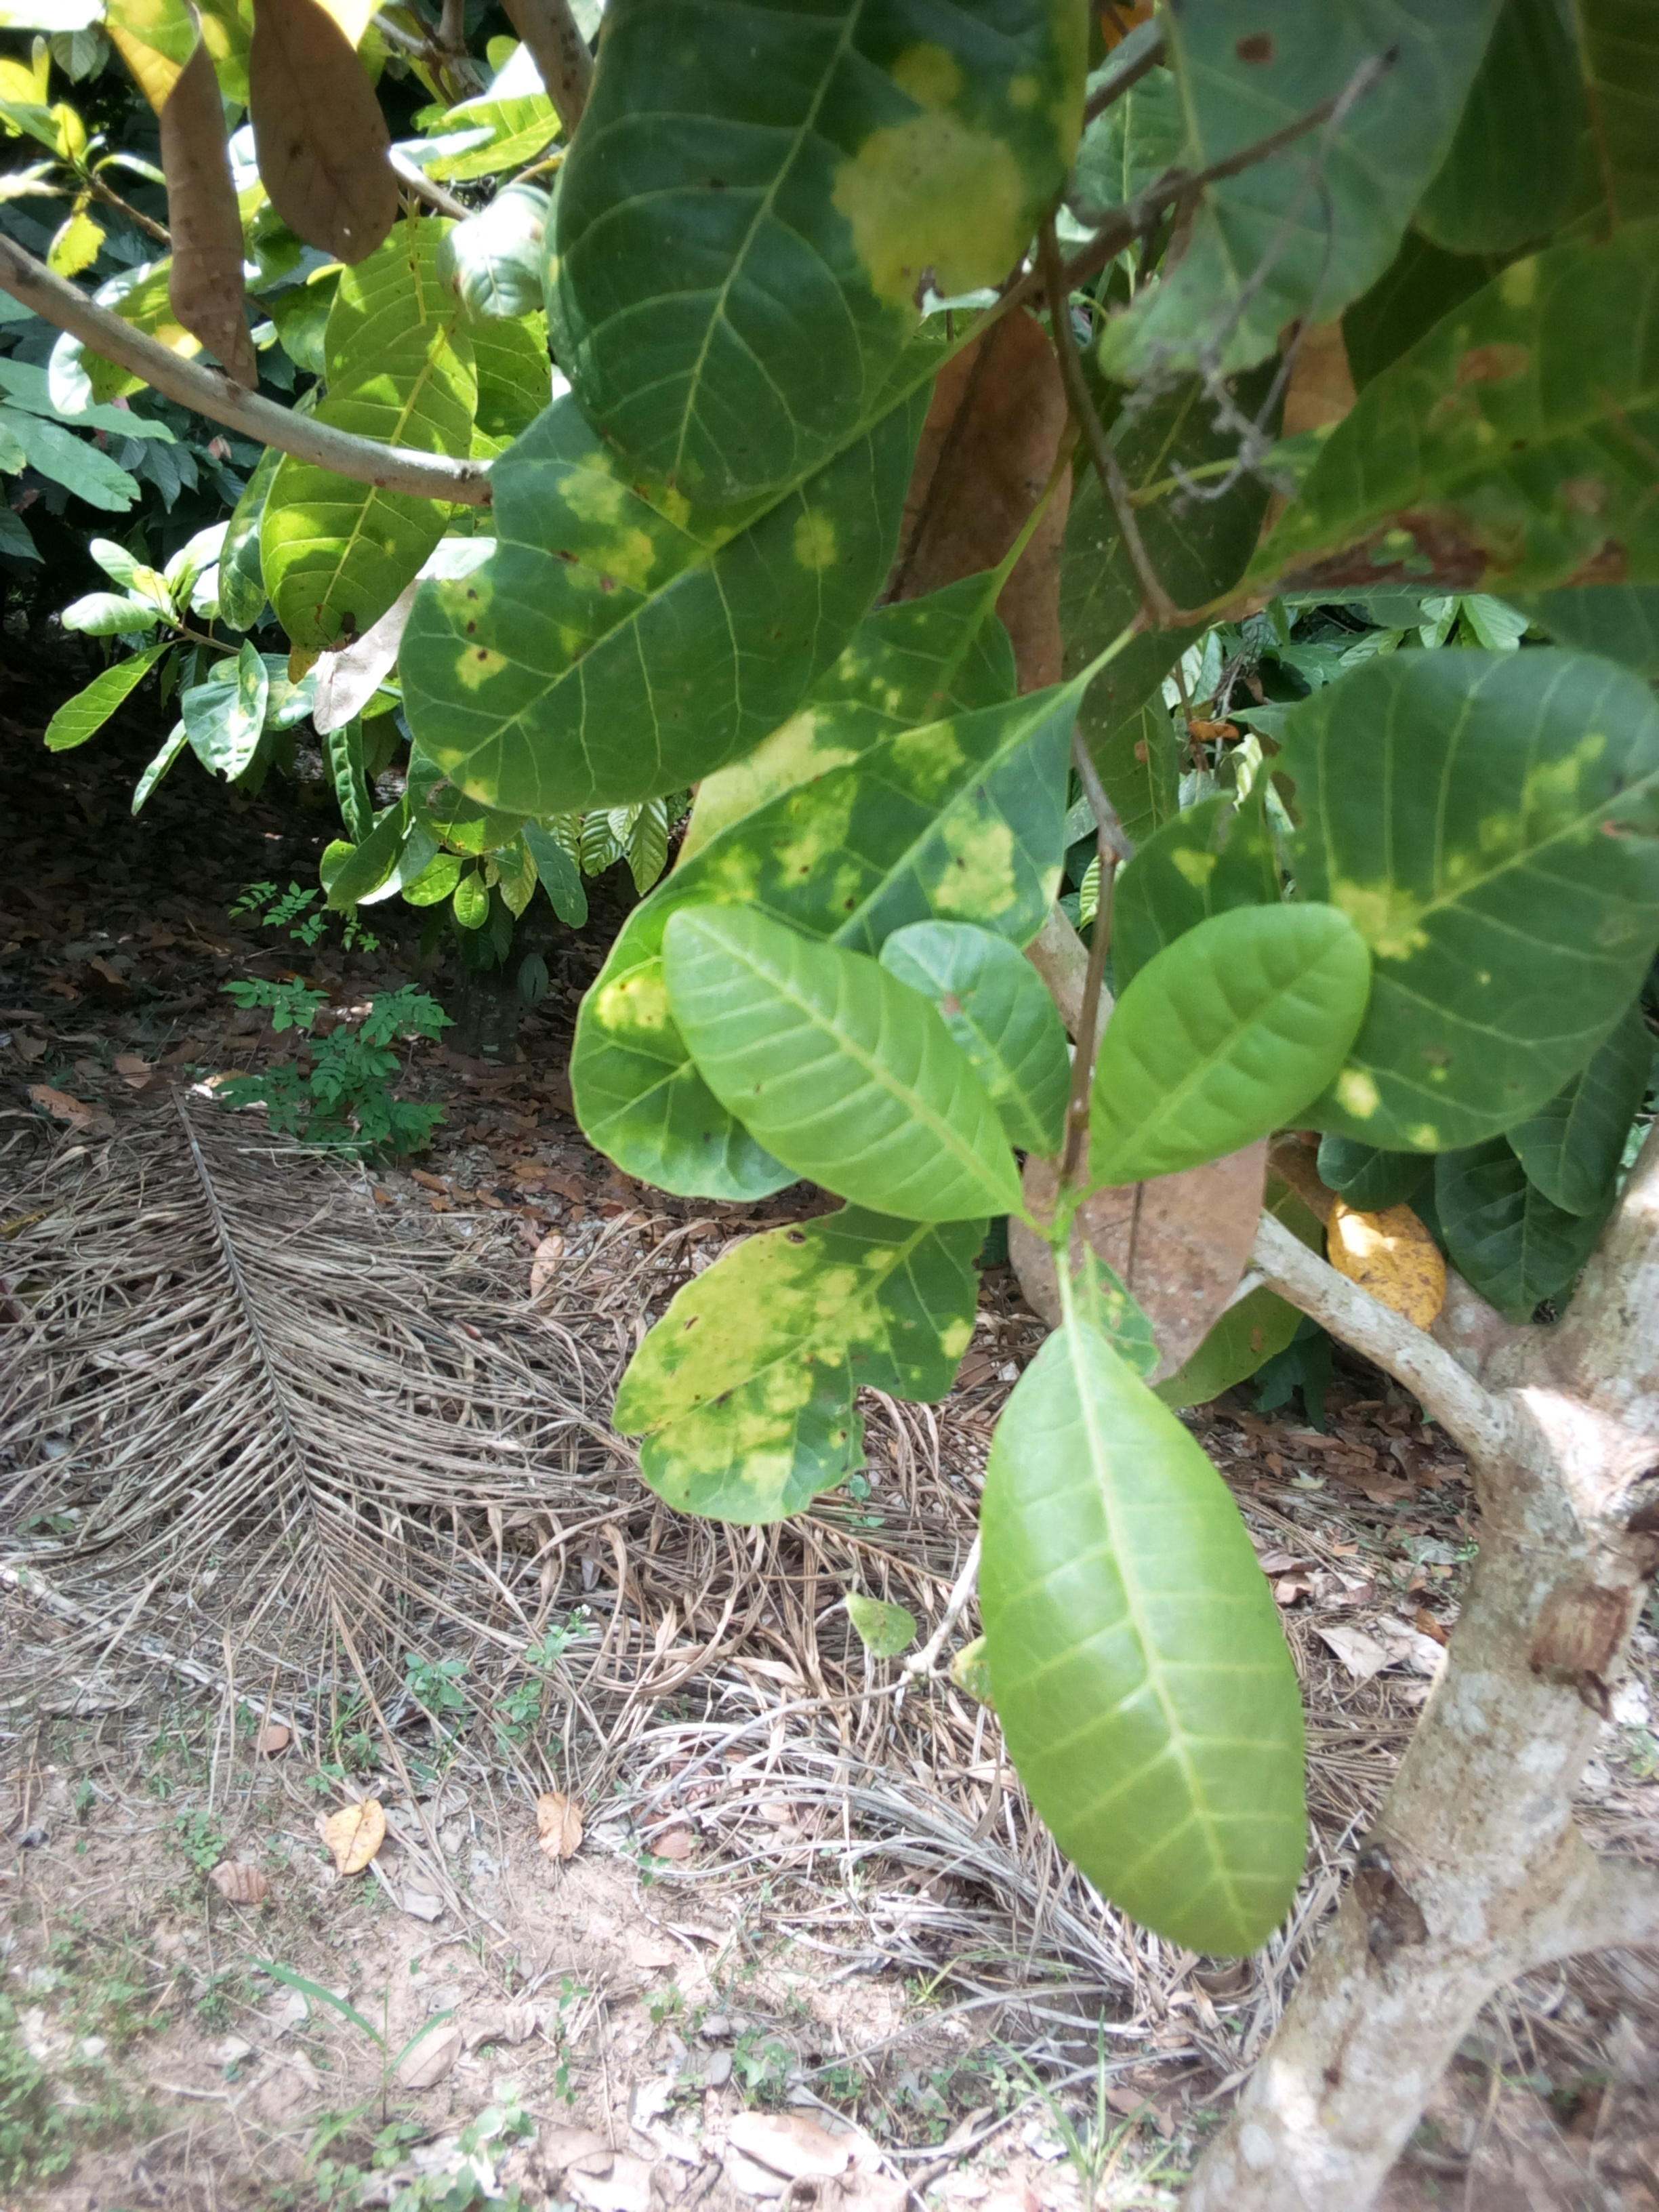Carence minérale: (460, 2, 1127, 526), (382, 317, 983, 812), (1086, 611, 1659, 1123), (538, 679, 1044, 1221), (1216, 181, 1652, 639), (603, 1153, 979, 1564)
